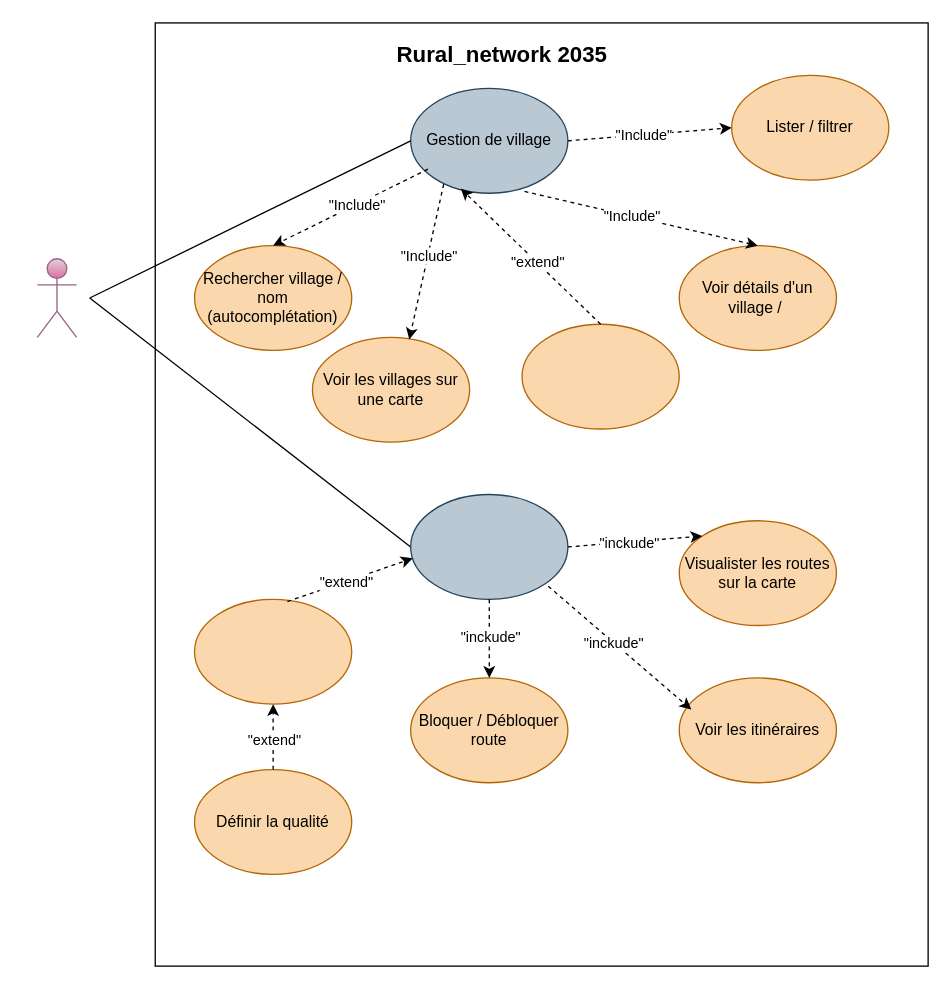
The diagram is 951 pixels wide and 989 high, and some of its shapes have lost their labels. Each missing label, with the centre of its shape:
Ajouter / modifier / supprimer: the point at 600,376
Ajouter /modifier /supprimer: the point at 272,651
Gestion de routes: the point at 488,546
Utilisateur: the point at 56,297
